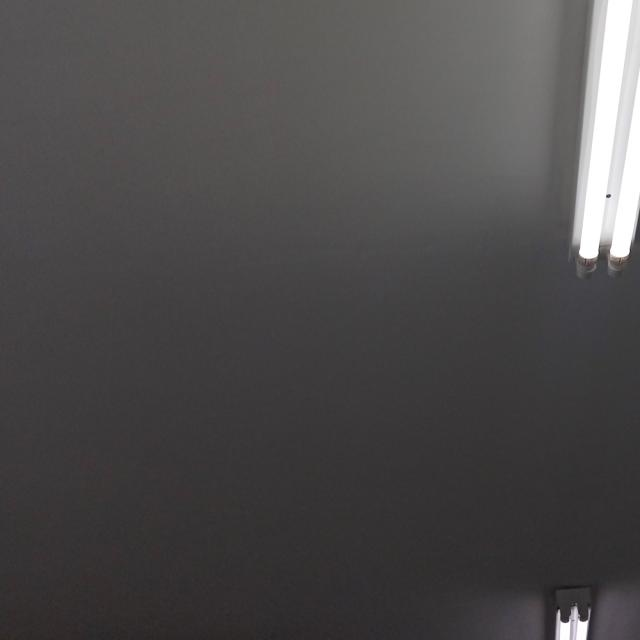fluorescent tube: (533, 0, 640, 308), (515, 564, 640, 640)
